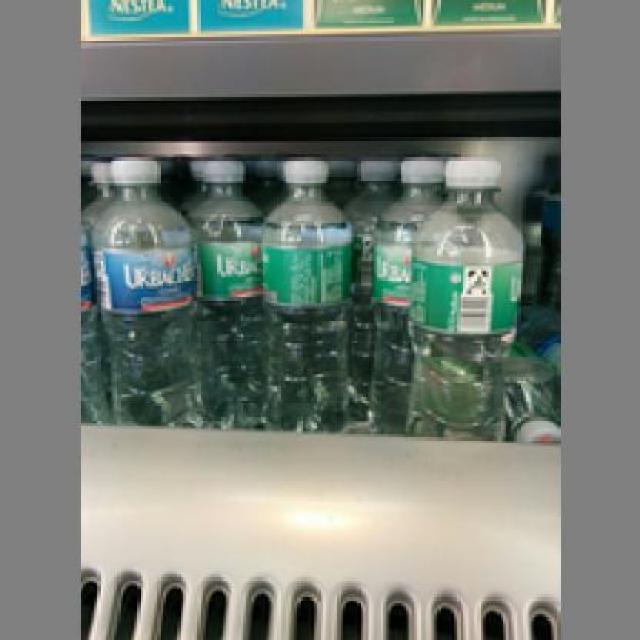Water: (403, 152, 526, 438), (85, 154, 198, 423), (260, 150, 349, 427), (180, 154, 266, 426)
